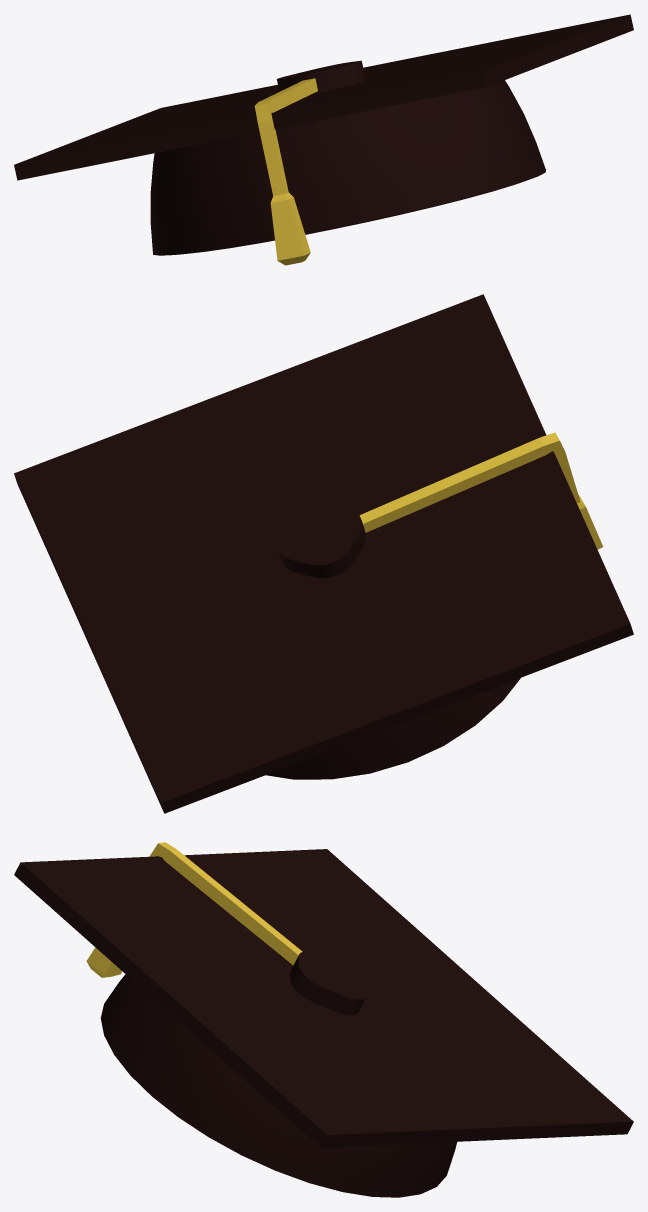
File: Graduation_Cap.gltf
The picture shows the model from 3 angles, top to bottom: view 1: azimuth 30°, elevation 25°; view 2: azimuth 150°, elevation 25°; view 3: azimuth 270°, elevation 25°; orthographic projection. The views are drawn at different scales.
Visible parts, largest first — view 1: Circle.1813; view 2: Circle.1813; view 3: Circle.1813.
Boxes of the visible parts, box(x1,y1,x2,y2) form: Circle.1813: box(14, 14, 633, 265); Circle.1813: box(14, 294, 633, 813); Circle.1813: box(14, 842, 633, 1197).
Size of the model in its own units: 2.13 by 1.04 by 1.95.
